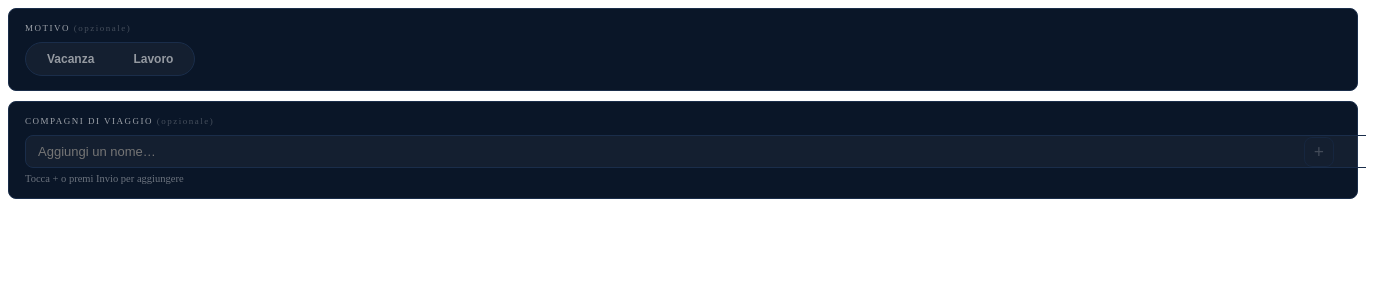
Scenario: TripPurposeCompanions — suggerimenti da tastiera › digitando compaiono i suggerimenti, nessuno evidenziato
The image size is (1378, 284).
Type "giu" into the dropdown with placeholder "Aggiungi un nome…" at (696, 152), box x1=25 y1=135 x2=1366 y2=168
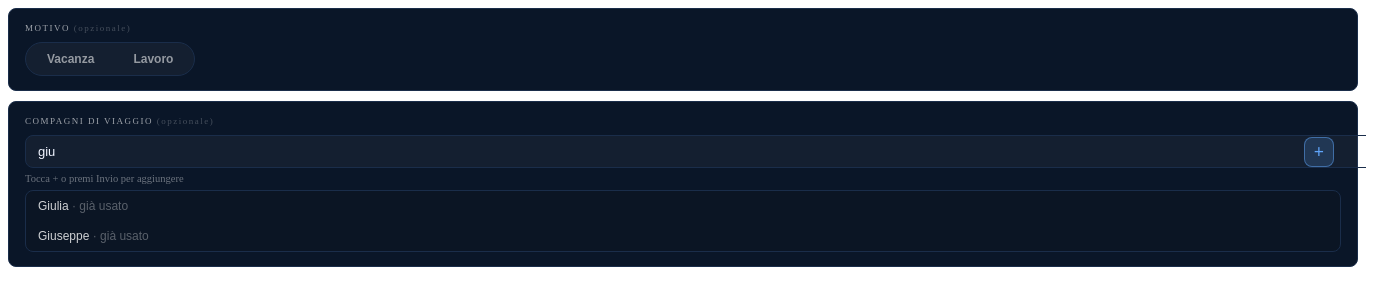
Expected: the options read "Giulia · già usato", "Giuseppe · già usato", in this order, x1=26 y1=191 x2=1340 y2=221; x1=26 y1=221 x2=1340 y2=251
